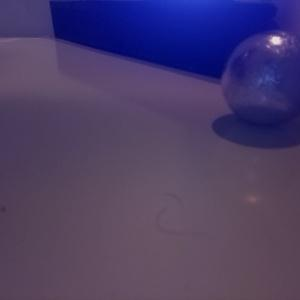alive_ball: (221, 30, 300, 126)
